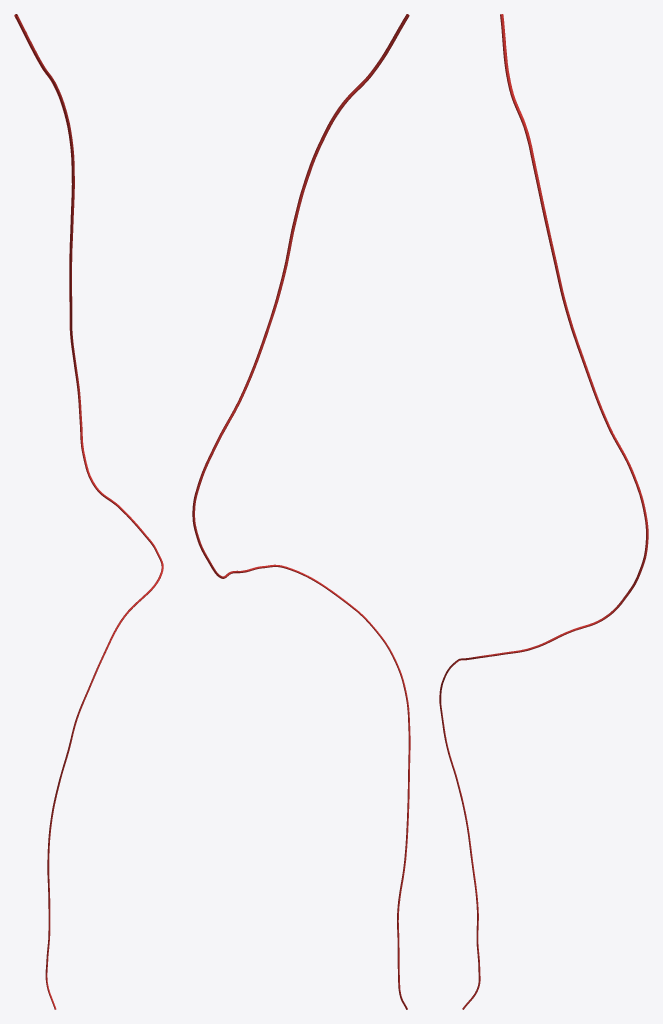
Rendered from circulatorio-left-testicular-artery.glb.
3 renders of one model, left to right at view 1: azimuth 30°, elevation 25°; view 2: azimuth 150°, elevation 25°; view 3: azimuth 270°, elevation 25°, orthographic. The views are drawn at different scales.
Visible parts, largest first — view 1: Left testicular artery; view 2: Left testicular artery; view 3: Left testicular artery.
Boxes of the visible parts, <box> form: Left testicular artery: <box>14,14,163,1009</box>; Left testicular artery: <box>192,14,410,1009</box>; Left testicular artery: <box>439,14,648,1009</box>.
Size of the model in its own units: 0.0551 by 0.3571 by 0.0687.
